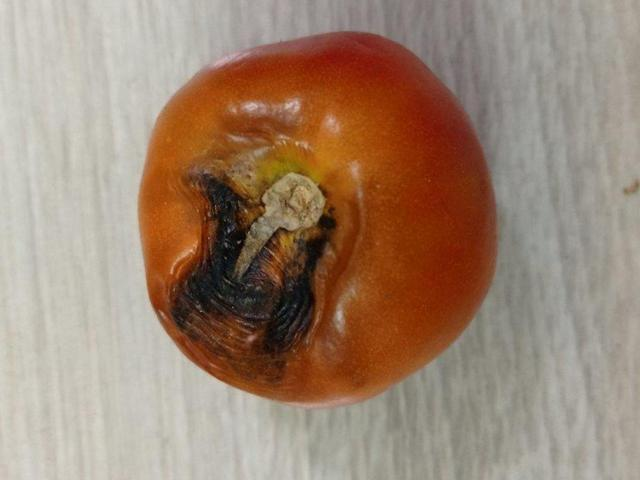defect: (134, 27, 504, 413)
